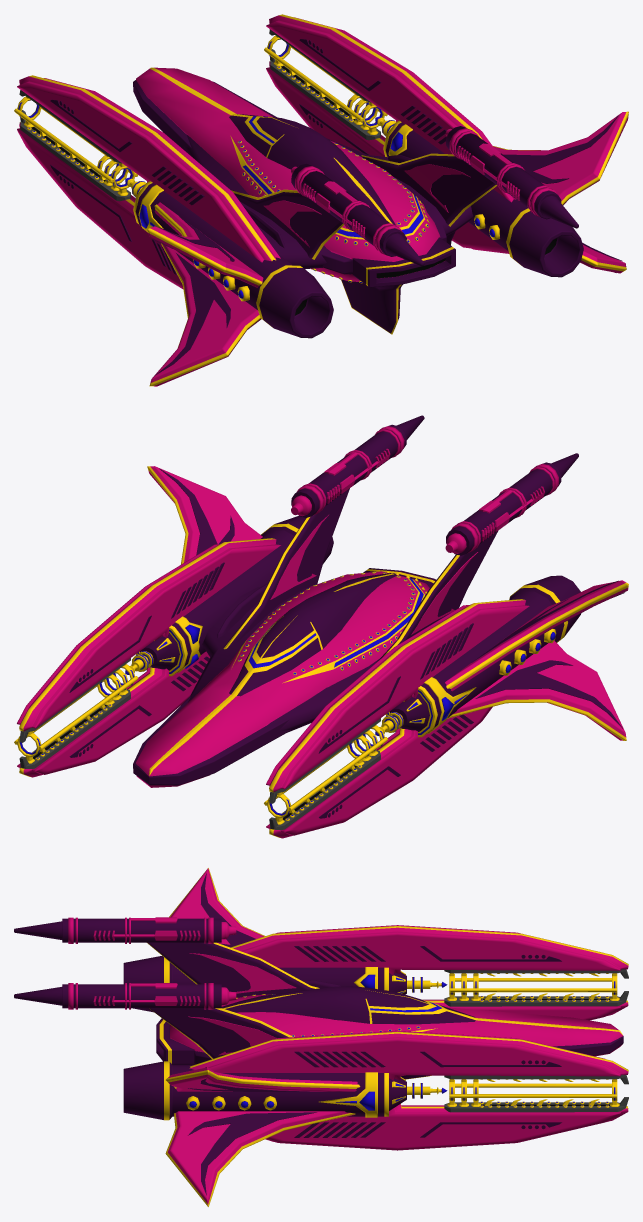
File: AlienStarfighter31.obj
The picture shows the model from 3 angles, top to bottom: view 1: azimuth 30°, elevation 25°; view 2: azimuth 150°, elevation 25°; view 3: azimuth 270°, elevation 25°; orthographic projection. The views are drawn at different scales.
Visible parts, largest first — view 1: Cylinder.003_Cylinder.005, Sphere.002_Sphere.004, Cylinder.001_Cylinder.006, Cube.001, Cube.005, Cylinder.004_Cylinder.002, Cube.004_Cube.002, Sphere.001_Sphere.003, Cylinder.010_Cylinder.003, Cube.006, Cylinder.006_Cylinder.007, Cube.019_Cube.034 (+11 smaller); view 2: Cylinder.003_Cylinder.005, Sphere.002_Sphere.004, Cylinder.001_Cylinder.006, Sphere.001_Sphere.003, Cube.001, Cube.005, Cylinder.004_Cylinder.002, Cube.004_Cube.002, Cylinder.010_Cylinder.003, Cube.006, Cube.010, Cube.019_Cube.034 (+7 smaller); view 3: Cylinder.003_Cylinder.005, Cylinder.001_Cylinder.006, Sphere.002_Sphere.004, Cylinder.004_Cylinder.002, Cube.001, Sphere.001_Sphere.003, Cube.004_Cube.002, Cube.006, Cube.005, Cylinder.022_Cylinder.030, Cube.010, Cube.017_Cube.028 (+8 smaller).
Boxes of the visible parts, x1,y1,x2,y2 form: Cylinder.003_Cylinder.005: (17,14,516,288); Sphere.002_Sphere.004: (133,67,455,287); Cylinder.001_Cylinder.006: (125,116,583,338); Cube.001: (230,153,496,259); Cube.005: (147,111,628,287); Cylinder.004_Cylinder.002: (291,126,578,266); Cube.004_Cube.002: (149,243,626,386); Sphere.001_Sphere.003: (229,114,395,225); Cylinder.010_Cylinder.003: (183,135,473,269); Cube.006: (19,29,380,201); Cylinder.006_Cylinder.007: (341,279,402,334); Cube.019_Cube.034: (155,243,622,375); Cylinder.003_Cylinder.005: (17,538,529,838); Sphere.002_Sphere.004: (133,568,436,787); Cylinder.001_Cylinder.006: (125,516,581,737); Sphere.001_Sphere.003: (229,573,397,696); Cube.001: (223,488,498,661); Cube.005: (147,466,628,691); Cylinder.004_Cylinder.002: (291,415,578,555); Cube.004_Cube.002: (447,640,626,740); Cylinder.010_Cylinder.003: (188,586,379,732); Cube.006: (19,658,380,830); Cube.010: (171,562,473,751); Cube.019_Cube.034: (475,660,622,728); Cylinder.003_Cylinder.005: (189,925,628,1150); Cylinder.001_Cylinder.006: (123,956,447,1120); Sphere.002_Sphere.004: (156,994,623,1076); Cylinder.004_Cylinder.002: (14,918,236,1008); Cube.001: (147,942,319,1059); Sphere.001_Sphere.003: (221,986,476,1024); Cube.004_Cube.002: (165,1111,355,1206); Cube.006: (444,969,628,1112); Cube.005: (166,868,360,1091); Cylinder.022_Cylinder.030: (449,978,616,1097); Cube.010: (294,946,385,1137); Cube.017_Cube.028: (188,953,296,1055).
Size of the model in its own units: 6.19 by 2.28 by 7.88.
